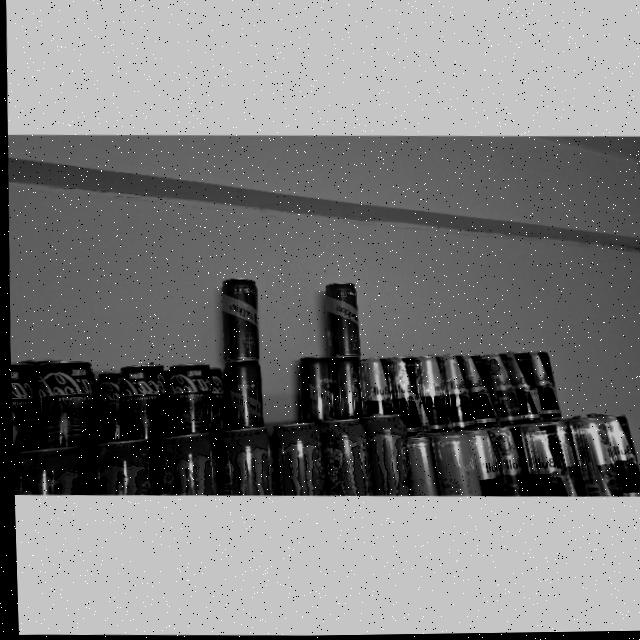Coca Cola: (204, 372, 221, 427)
Coca Cola - Marvel: (33, 359, 92, 447), (114, 365, 162, 439), (161, 363, 206, 432), (8, 362, 35, 449), (89, 375, 119, 441)
Monster Mango Loco: (266, 423, 318, 497), (315, 420, 365, 496), (364, 414, 409, 497), (86, 439, 151, 496), (212, 429, 265, 497), (157, 435, 212, 496), (13, 448, 80, 495)
Redbull: (600, 418, 640, 498), (520, 429, 557, 498), (413, 360, 449, 430), (389, 361, 421, 431), (435, 357, 466, 421), (460, 359, 493, 419), (504, 358, 535, 421), (528, 354, 558, 417), (470, 433, 499, 497), (359, 360, 390, 418)
Redbull DanceYourStyle: (559, 423, 608, 499), (484, 431, 521, 497), (479, 356, 516, 421)
Redbull Yellow Edition: (426, 436, 483, 498), (405, 443, 432, 497)
Schweppes: (217, 279, 256, 361), (324, 279, 357, 355), (223, 362, 260, 428), (301, 361, 330, 418), (335, 359, 356, 418)
